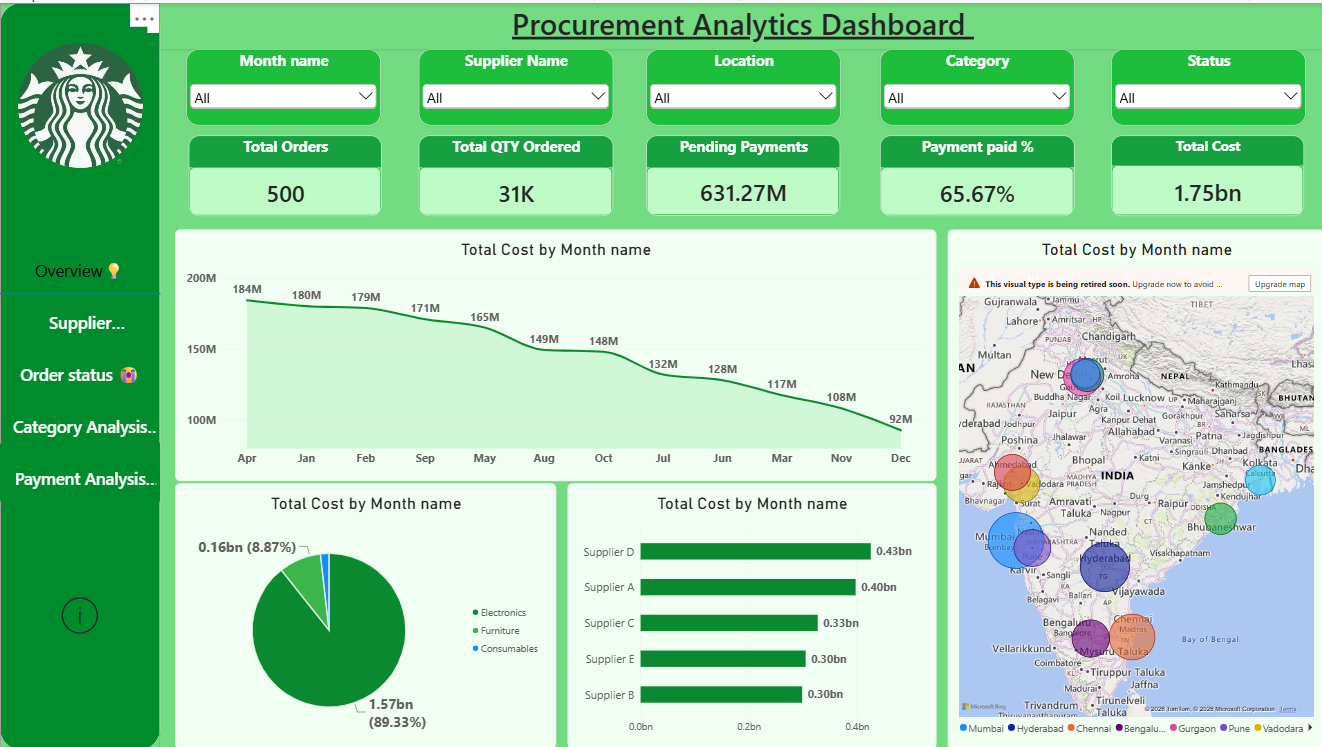

What the dashboard file says about the page in this screenshot:
{"tool":"powerbi","page":{"name":"Overview💡 ","canvas":[1920,1080],"ordinal":0},"visuals":[{"type":"shape","box":[0,0,232.3,1081.2],"z":0},{"type":"actionButton","box":[0,635.4,232.3,88.1],"z":2000},{"type":"slicer","title":"Month name","fields":{"Values":["Date Table.Month Name"]},"box":[270.5,67.1,281.3,110.4],"z":6000},{"type":"slicer","title":"Supplier Name","fields":{"Values":["Suppliers.Supplier Name"]},"box":[606,67.1,281.3,110.4],"z":7000},{"type":"slicer","title":"Location","fields":{"Values":["Procurement Data.Location"]},"box":[934.9,67.1,281.3,110.4],"z":8000},{"type":"slicer","title":"Category","fields":{"Values":["Procurement Data.Category"]},"box":[1274.7,67.1,281.3,110.4],"z":9000},{"type":"slicer","title":"Status","fields":{"Values":["Procurement Data.Order Status"]},"box":[1608,67.1,281.3,110.4],"z":10000},{"type":"cardVisual","title":"Total Orders","fields":{"Data":["Measures Table.total_orders"]},"box":[272.7,192.6,279.2,116.9],"z":11000},{"type":"cardVisual","title":"Total QTY Ordered","fields":{"Data":["Measures Table.Total Qty Ordered"]},"box":[606,192.6,281.3,116.9],"z":12000},{"type":"cardVisual","title":"Pending Payments","fields":{"Data":["Measures Table.Pending_payments"]},"box":[934.9,192.6,280.5,115.8],"z":13000},{"type":"cardVisual","title":"Payment paid %","fields":{"Data":["Measures Table.%_Paid"]},"box":[1274.7,192.6,281.3,116.9],"z":14000},{"type":"cardVisual","title":"Total Cost","fields":{"Data":["Measures Table.total_cost"]},"box":[1608,192.6,279.2,116.9],"z":15000},{"type":"lineChart","title":"Total Cost by Month name","fields":{"Category":["Date Table.Month Name"],"Y":["Measures Table.total_cost"]},"box":[253.2,326.8,1102.4,364.4],"z":16000},{"type":"pieChart","title":"Total Cost by Month name","fields":{"Category":["Procurement Data.Category"],"Y":["Measures Table.total_cost"]},"box":[253.5,694.9,552.3,384.8],"z":17000},{"type":"clusteredBarChart","title":"Total Cost by Month name","fields":{"Category":["Procurement Data.Supplier Name"],"Y":["Measures Table.total_cost"]},"box":[821.7,694.9,534.2,384.8],"z":18000},{"type":"map","title":"Total Cost by Month name","fields":{"Category":["Procurement Data.Location"],"Series":["Procurement Data.Location"],"Size":["Measures Table.total_cost"]},"box":[1372.1,326.8,547.5,753.1],"z":19000},{"type":"textbox","box":[231.6,0,1688,67.1],"z":20000},{"type":"pageNavigator","box":[0,355.1,232.3,368.4],"z":20001},{"type":"image","box":[18.7,34.7,194.9,226.9],"z":20002},{"type":"actionButton","title":"Information","box":[34.7,840.9,162.9,90.8],"z":20003}]}

Visuals, with their boxes on the page's 1920x1080 design canvas (x1, y1, x2, y2). These are canvas units, not pixel positions in the 1322x747 screenshot, which may show the page scaled, cropped or inside an application window:
shape: {"left": 0, "top": 0, "right": 232, "bottom": 1081}
actionButton: {"left": 0, "top": 635, "right": 232, "bottom": 724}
"Month name" slicer: {"left": 270, "top": 67, "right": 552, "bottom": 178}
"Supplier Name" slicer: {"left": 606, "top": 67, "right": 887, "bottom": 178}
"Location" slicer: {"left": 935, "top": 67, "right": 1216, "bottom": 178}
"Category" slicer: {"left": 1275, "top": 67, "right": 1556, "bottom": 178}
"Status" slicer: {"left": 1608, "top": 67, "right": 1889, "bottom": 178}
"Total Orders" cardVisual: {"left": 273, "top": 193, "right": 552, "bottom": 310}
"Total QTY Ordered" cardVisual: {"left": 606, "top": 193, "right": 887, "bottom": 310}
"Pending Payments" cardVisual: {"left": 935, "top": 193, "right": 1215, "bottom": 308}
"Payment paid %" cardVisual: {"left": 1275, "top": 193, "right": 1556, "bottom": 310}
"Total Cost" cardVisual: {"left": 1608, "top": 193, "right": 1887, "bottom": 310}
"Total Cost by Month name" lineChart: {"left": 253, "top": 327, "right": 1356, "bottom": 691}
"Total Cost by Month name" pieChart: {"left": 254, "top": 695, "right": 806, "bottom": 1080}
"Total Cost by Month name" clusteredBarChart: {"left": 822, "top": 695, "right": 1356, "bottom": 1080}
"Total Cost by Month name" map: {"left": 1372, "top": 327, "right": 1920, "bottom": 1080}
textbox: {"left": 232, "top": 0, "right": 1920, "bottom": 67}
pageNavigator: {"left": 0, "top": 355, "right": 232, "bottom": 724}
image: {"left": 19, "top": 35, "right": 214, "bottom": 262}
"Information" actionButton: {"left": 35, "top": 841, "right": 198, "bottom": 932}
